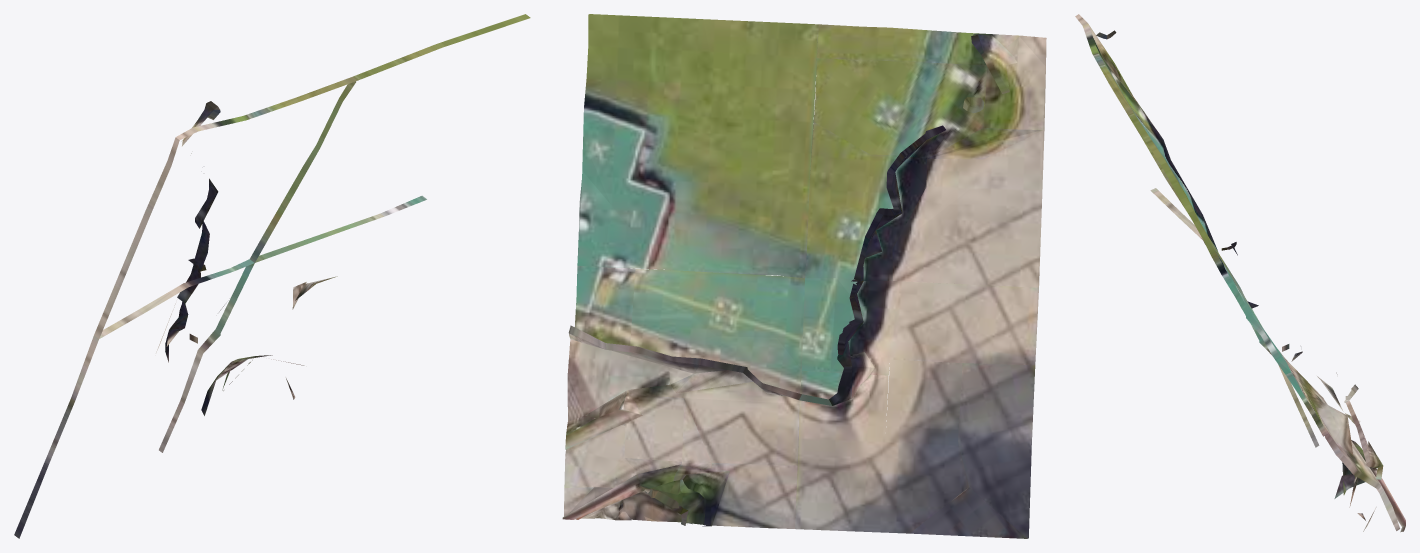
File: AJVsH2xoJ9V9uq8-IaXxdilaBQlpOKb3buB-OIUes3Wa1U2bEgwIzhjmnZKdphPx54IcULZ98-RQwsb_nk3euiOFGrSuMtKfIm-zDRcRmUJNuVbVm5mDwct9OHpUbiu2CMFPujWsrn1hb8_hLY8QshTw8Cev.glb
3 views of the same model, side by side, from view 1: azimuth 30°, elevation 25°; view 2: azimuth 150°, elevation 25°; view 3: azimuth 270°, elevation 25° (orthographic). The views are drawn at different scales.
Bounding box in the file's own units: 40.47 × 36.99 × 27.82.
1 material, 1 textured.
